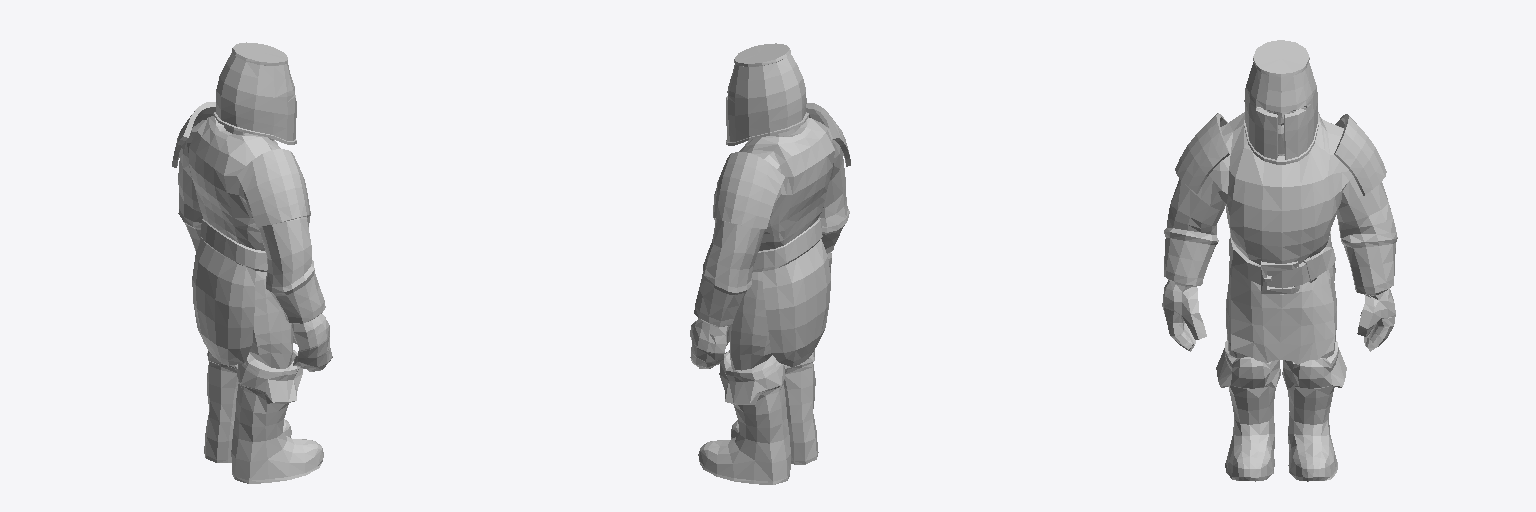
Rendered from guard.obj.
The picture shows the model from 3 angles: view 1: azimuth 30°, elevation 25°; view 2: azimuth 150°, elevation 25°; view 3: azimuth 270°, elevation 25°; orthographic projection.
Visible parts, largest first — view 1: Guard; view 2: Guard; view 3: Guard.
Boxes of the visible parts, box(x1,y1,x2,y2) form: Guard: box(172, 42, 332, 483); Guard: box(690, 43, 850, 484); Guard: box(1162, 40, 1397, 481).
Size of the model in its own units: 1.63 by 6.35 by 3.27.